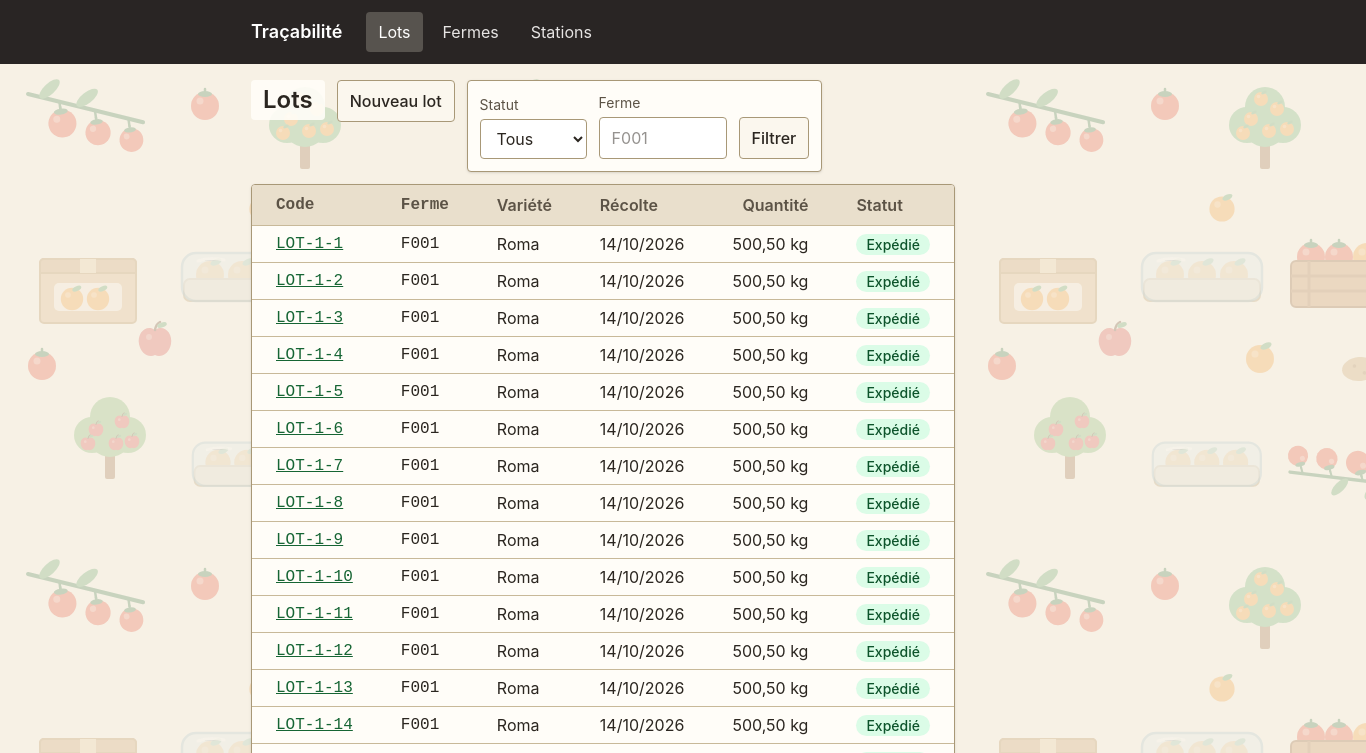
BatchesPage › asks the API for the filters, without the spaces around the farm code
The width and height of the screenshot is (1366, 753).
Check: the link "LOT-1-1" is shown, box [276, 235, 343, 253]
Select "Expédié" in the dropdown labelled "Statut": [533, 139] box [480, 119, 587, 159]
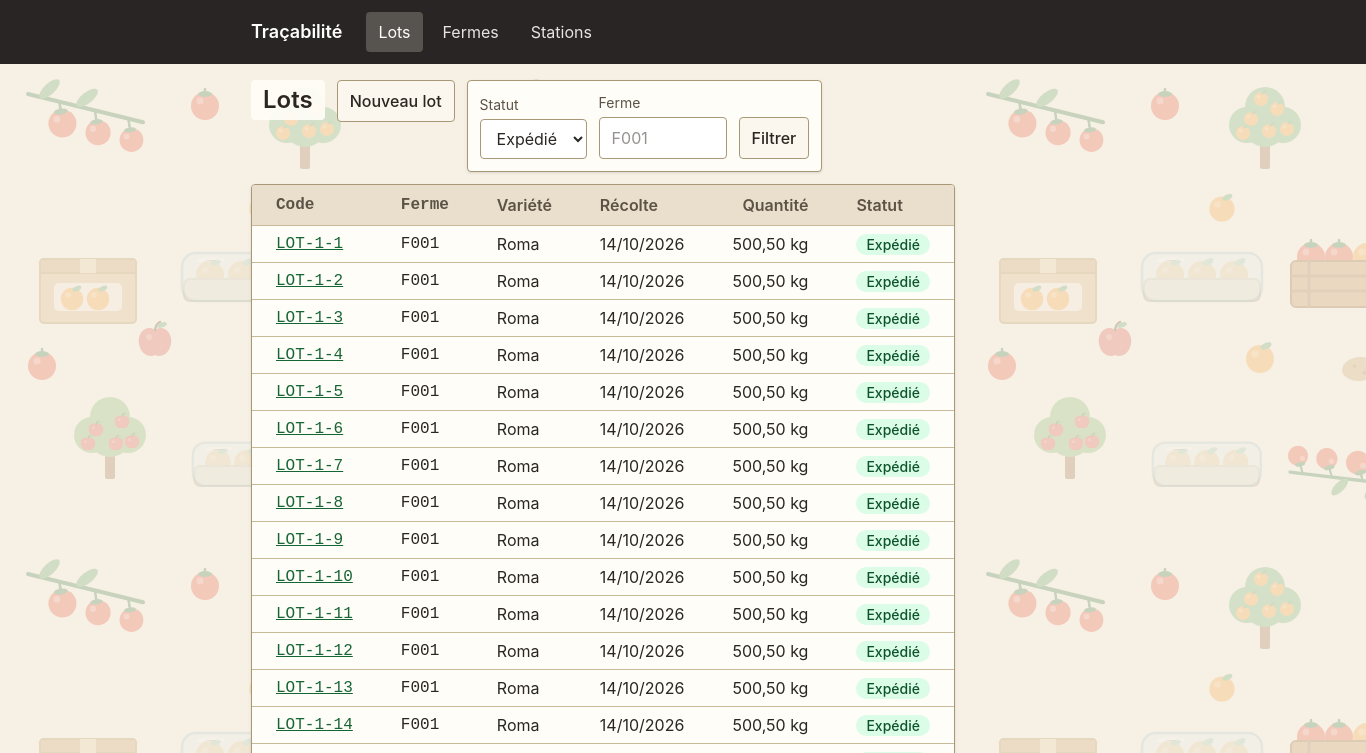
In the field labelled "Ferme": [663, 138] box [599, 117, 727, 159], type " F001 "
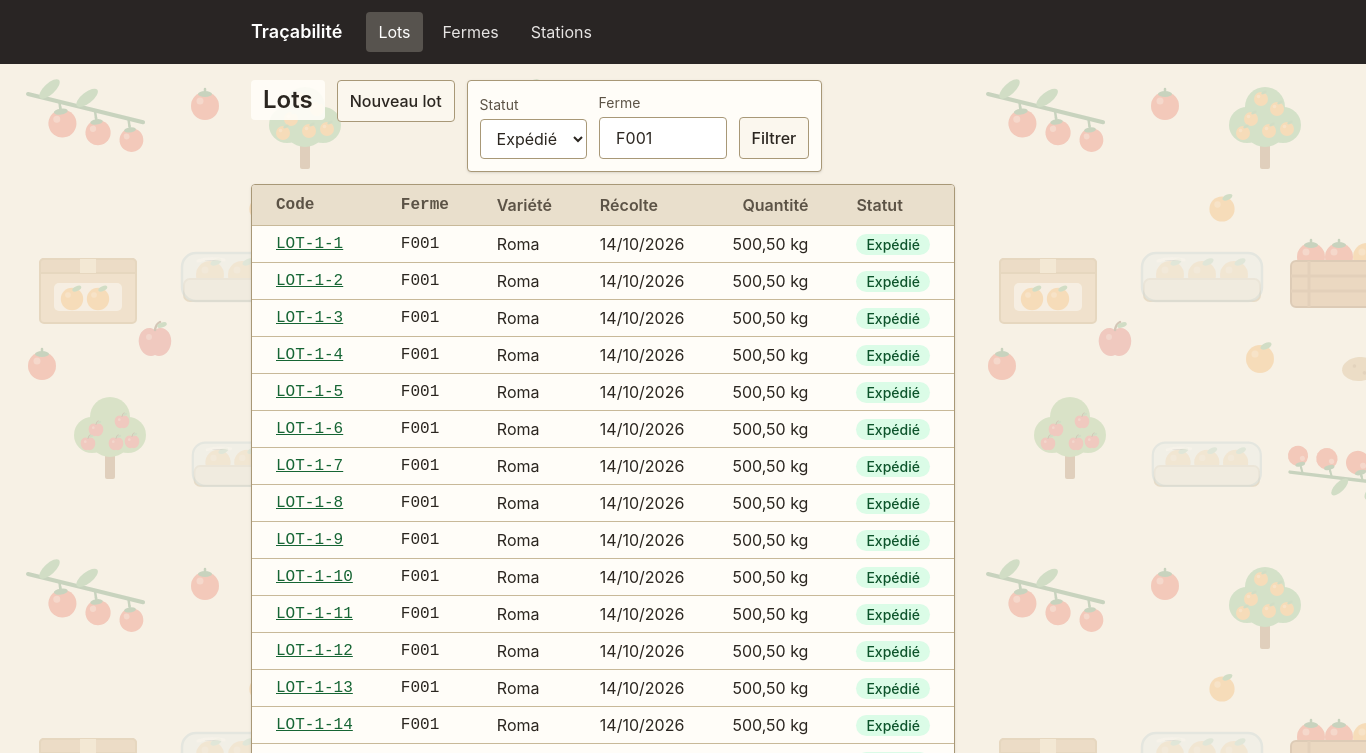
Click the button "Filtrer": [774, 138] box [739, 117, 809, 159]
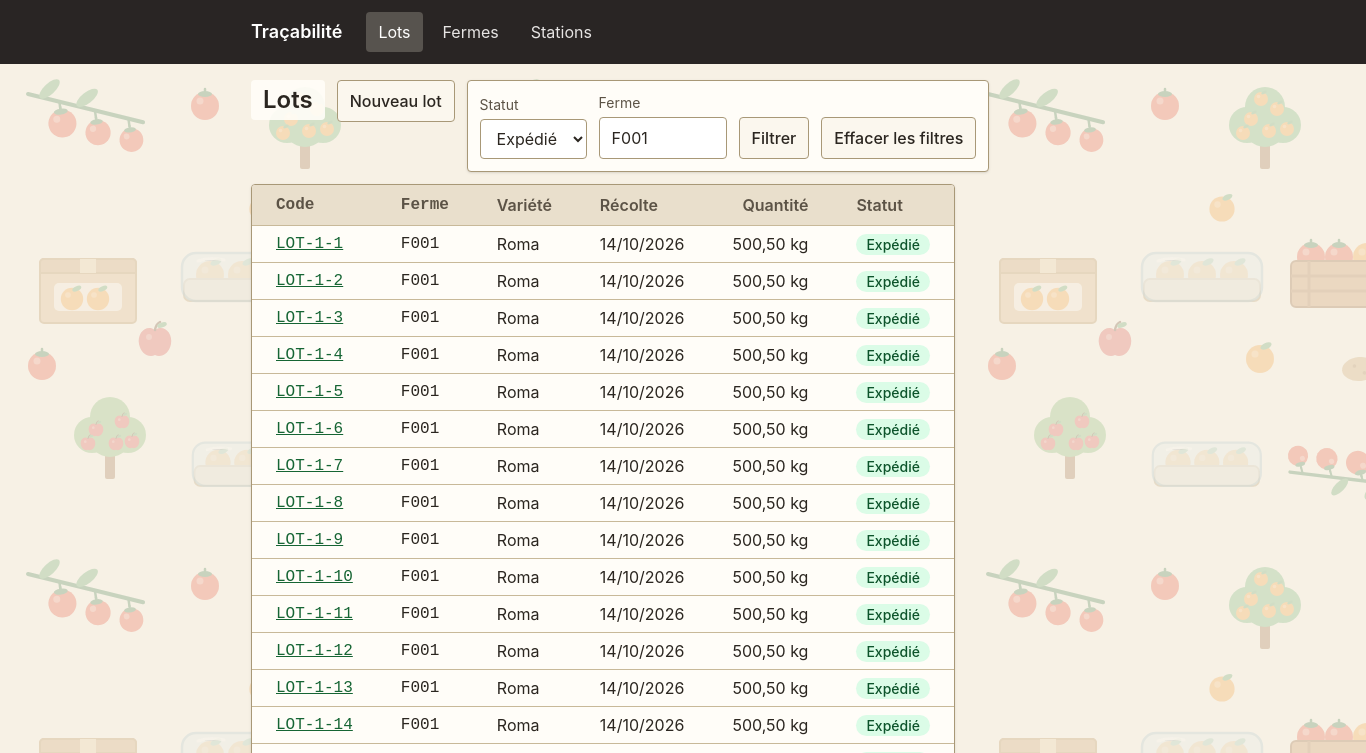
Check: the link "LOT-1-1" is shown, box [276, 235, 343, 253]
Check: the dropdown labelled "Statut" shows "Expédié", box [480, 119, 587, 159]
Check: the field labelled "Ferme" holds "F001", box [599, 117, 727, 159]
